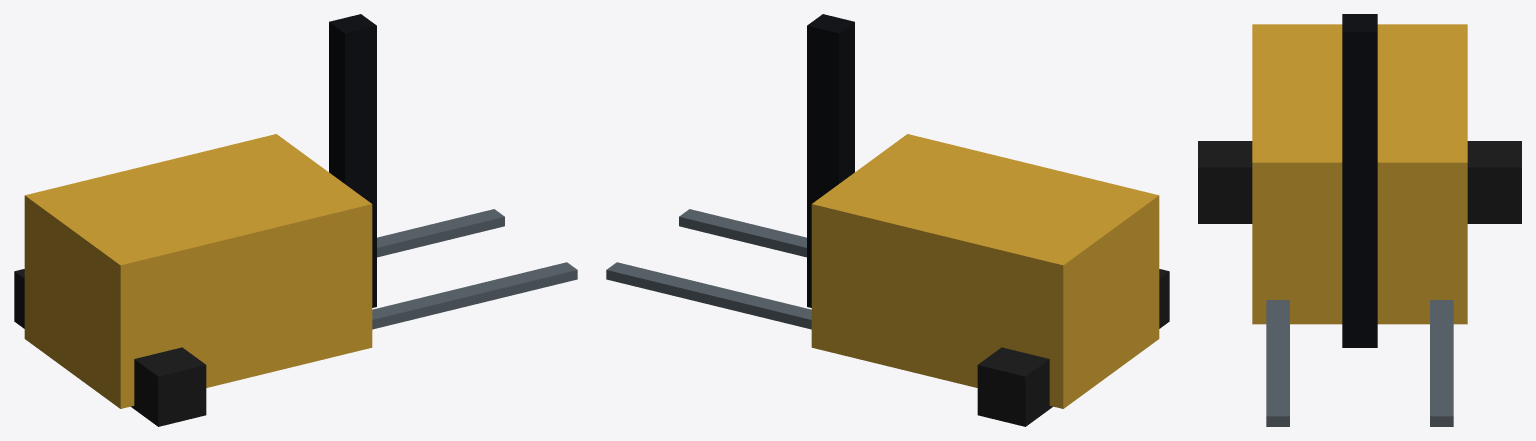
File: cover.forklift.glb
3 renders of one model, left to right at view 1: azimuth 30°, elevation 25°; view 2: azimuth 150°, elevation 25°; view 3: azimuth 270°, elevation 25°, orthographic. The views are drawn at different scales.
Visible parts, largest first — view 1: forklift_body, forklift_mast, wheel_b, right_fork, left_fork, wheel_a; view 2: forklift_body, forklift_mast, wheel_a, left_fork, right_fork, wheel_b; view 3: forklift_body, forklift_mast, wheel_a, wheel_b, left_fork, right_fork.
Boxes of the visible parts, x1,y1,x2,y2 form: forklift_body: [24, 134, 372, 408]; forklift_mast: [329, 14, 376, 307]; wheel_b: [131, 347, 206, 426]; right_fork: [372, 262, 577, 329]; left_fork: [377, 209, 504, 257]; wheel_a: [14, 269, 24, 328]; forklift_body: [811, 134, 1159, 408]; forklift_mast: [807, 14, 854, 307]; wheel_a: [977, 347, 1052, 426]; left_fork: [606, 262, 811, 329]; right_fork: [679, 209, 806, 257]; wheel_b: [1159, 269, 1169, 328]; forklift_body: [1252, 24, 1467, 324]; forklift_mast: [1342, 14, 1377, 347]; wheel_a: [1467, 141, 1521, 223]; wheel_b: [1198, 141, 1252, 223]; left_fork: [1430, 300, 1453, 426]; right_fork: [1266, 300, 1289, 426].
Bounding box in the file's own units: 4.05 × 2.38 × 2.18.
